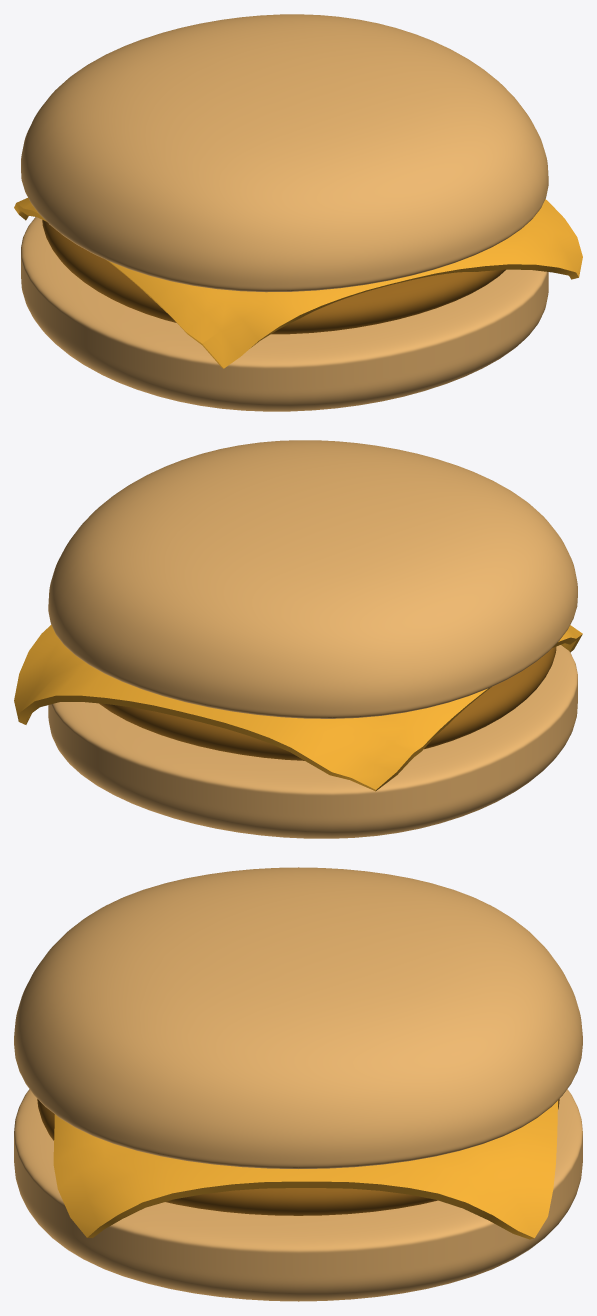
The model's file is burger.glb.
3 views of the same model, one above another, from view 1: azimuth 30°, elevation 25°; view 2: azimuth 150°, elevation 25°; view 3: azimuth 270°, elevation 25° (orthographic). The views are drawn at different scales.
Visible parts, largest first — view 1: Cube.002, Cube, Plane, Cube.001; view 2: Cube.002, Cube, Plane, Cube.001; view 3: Cube.002, Cube, Plane, Cube.001.
Part boxes in pixels (x1=…): Cube.002: x1=21, y1=14, x2=548, y2=292; Cube: x1=21, y1=217, x2=548, y2=411; Plane: x1=14, y1=198, x2=582, y2=368; Cube.001: x1=42, y1=220, x2=505, y2=334; Cube.002: x1=48, y1=440, x2=577, y2=718; Cube: x1=48, y1=645, x2=577, y2=838; Plane: x1=14, y1=625, x2=582, y2=791; Cube.001: x1=99, y1=647, x2=556, y2=760; Cube.002: x1=14, y1=867, x2=582, y2=1168; Cube: x1=14, y1=1089, x2=582, y2=1301; Plane: x1=53, y1=1100, x2=557, y2=1239; Cube.001: x1=37, y1=1099, x2=559, y2=1215.
Size of the model in its own units: 9.17 by 5.05 by 9.17.
